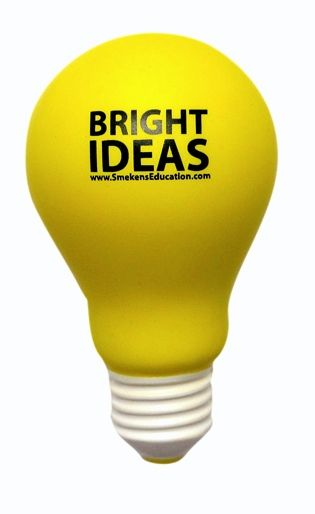Nonrec_Glass: (25, 34, 279, 478)
